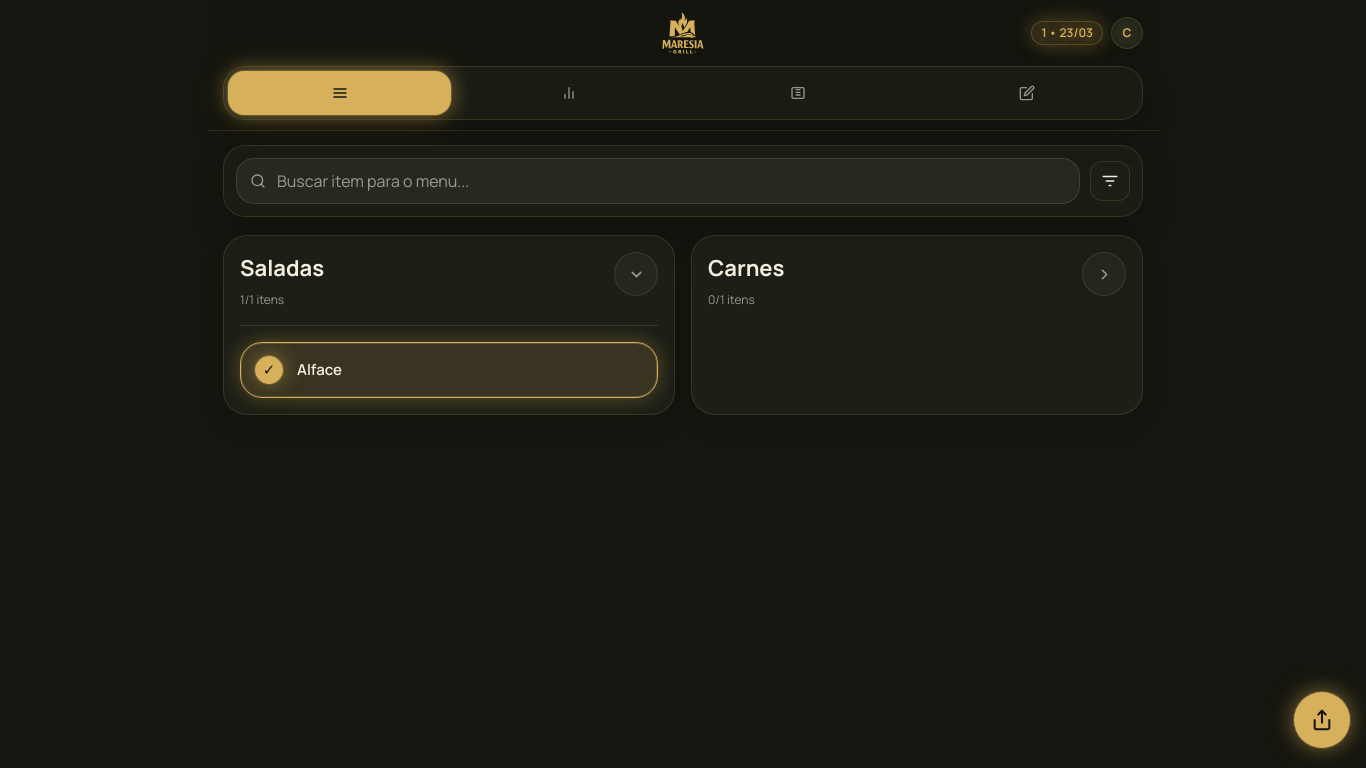
it: App › copies menu to clipboard when text share is chosen and navigator.share is unavailable
Click the button named "Compartilhar menu". click: {"x": 1322, "y": 720}
box: [1294,692,1350,748]
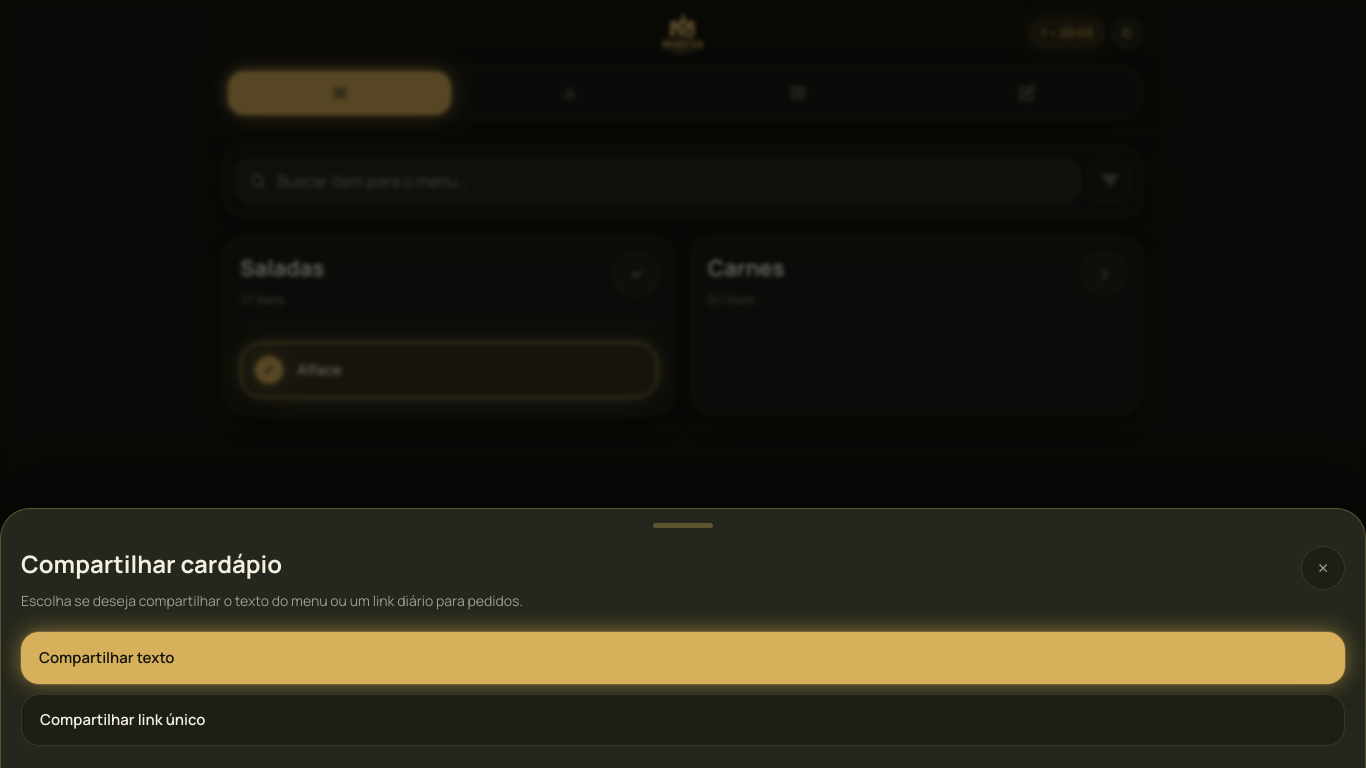
Click the button "Compartilhar texto". click: {"x": 107, "y": 657}
box: [21,632,1345,684]
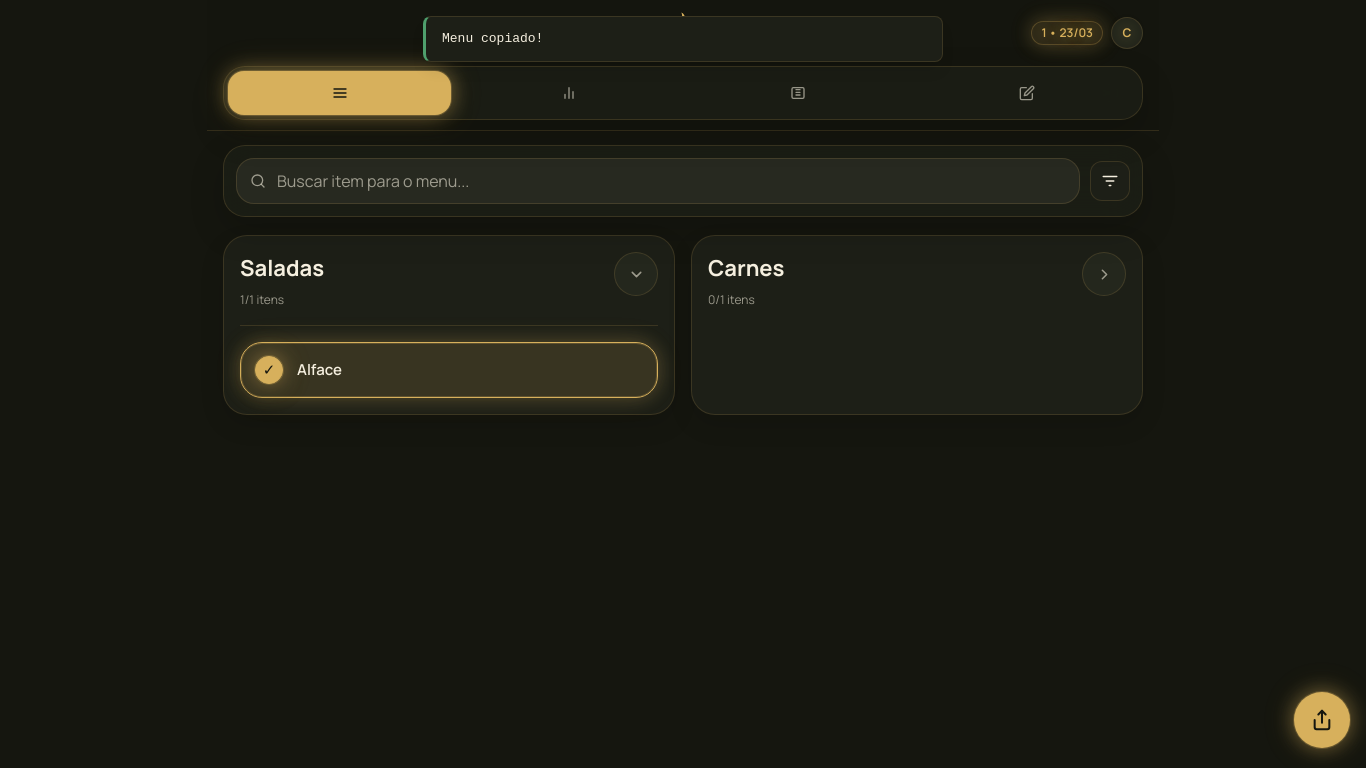
Expected: the text "Menu copiado!" is shown, [442,31,543,46]
